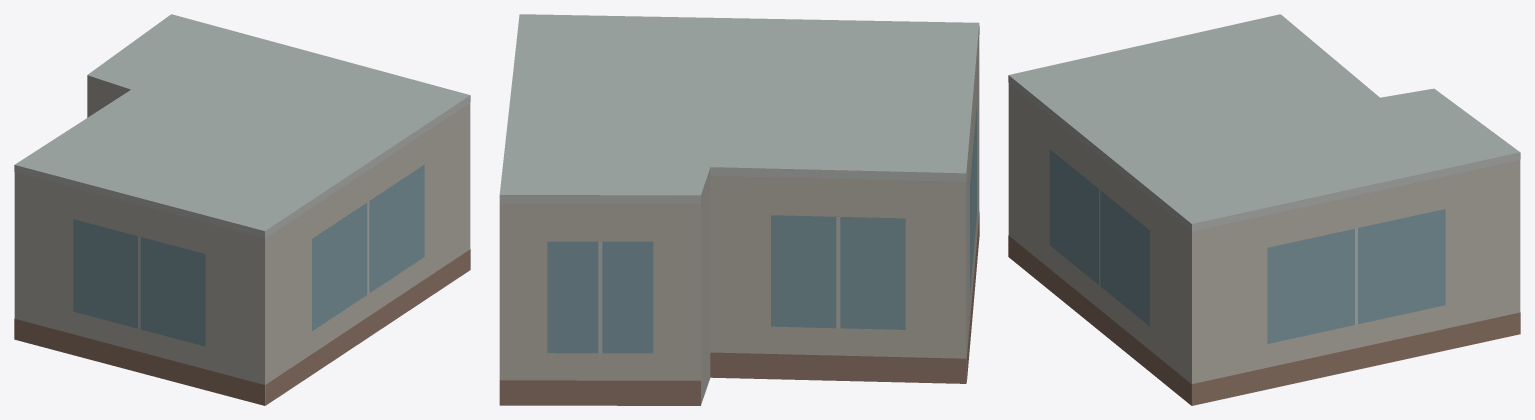
Rendered from survey-upis-32627037.glb.
3 renders of one model, left to right at view 1: azimuth 30°, elevation 25°; view 2: azimuth 150°, elevation 25°; view 3: azimuth 270°, elevation 25°, orthographic. The views are drawn at different scales.
Parts seen in each view (by area): view 1: survey-upis-32627037.tmp; view 2: survey-upis-32627037.tmp; view 3: survey-upis-32627037.tmp.
Part boxes in pixels (left/top/right/bottom): survey-upis-32627037.tmp: left=14, top=14, right=470, bottom=405; survey-upis-32627037.tmp: left=499, top=14, right=979, bottom=405; survey-upis-32627037.tmp: left=1008, top=14, right=1520, bottom=405.
Size of the model in its own units: 7.57 by 3.05 by 7.8.
